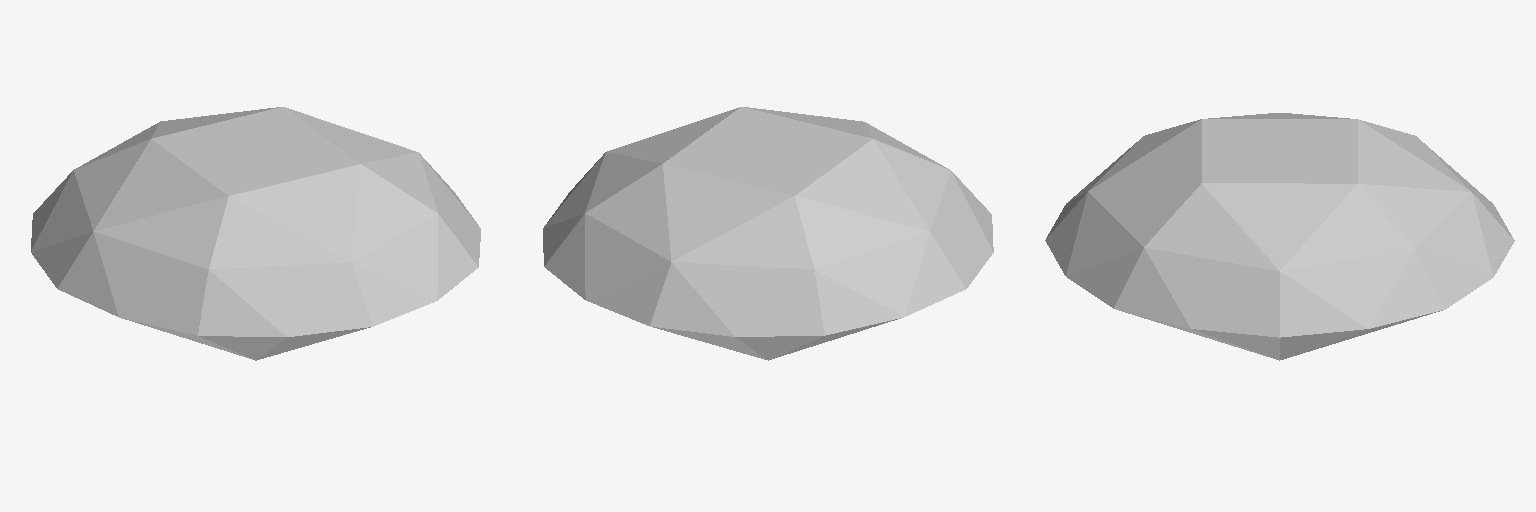
File: Blue Gem.obj
The picture shows the model from 3 angles: view 1: azimuth 30°, elevation 25°; view 2: azimuth 150°, elevation 25°; view 3: azimuth 270°, elevation 25°; orthographic projection.
Visible parts, largest first — view 1: Blue_Gem; view 2: Blue_Gem; view 3: Blue_Gem.
Boxes of the visible parts, x1,y1,x2,y2 form: Blue_Gem: [31, 107, 480, 360]; Blue_Gem: [543, 107, 993, 360]; Blue_Gem: [1045, 113, 1514, 360].
Size of the model in its own units: 10.59 by 5.33 by 10.85.